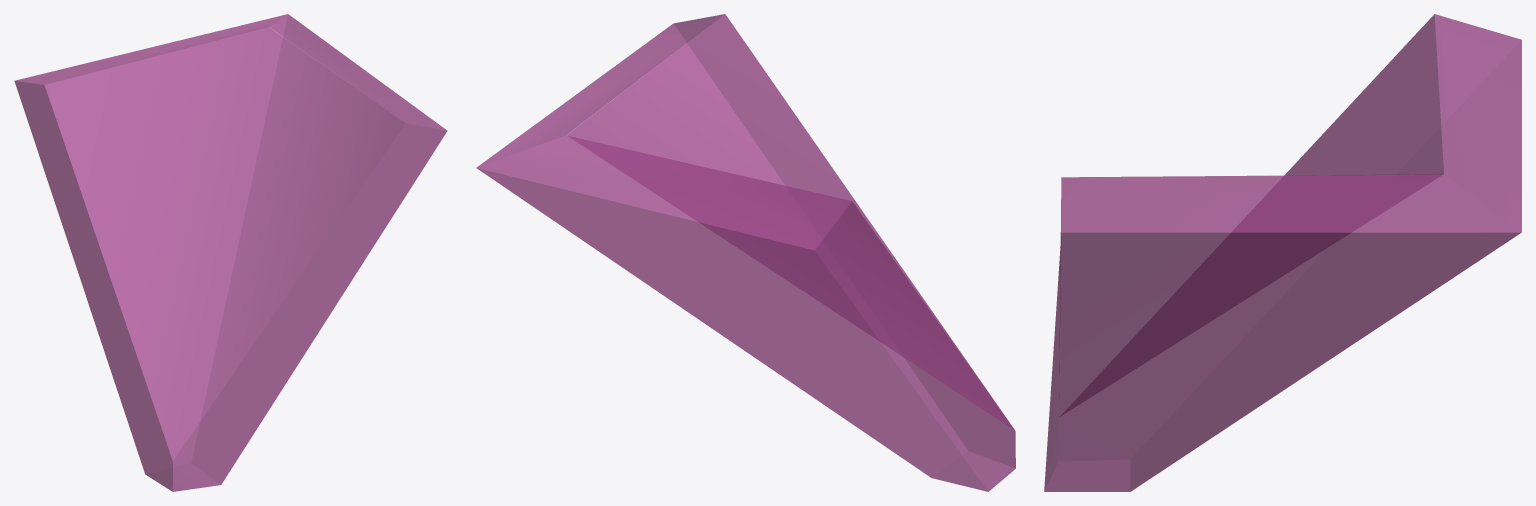
Rendered from SM_Bld_Roof_01_Corner_02_Collision.fbx.
The picture shows the model from 3 angles, left to right: view 1: azimuth 30°, elevation 25°; view 2: azimuth 150°, elevation 25°; view 3: azimuth 270°, elevation 25°; orthographic projection. The views are drawn at different scales.
Visible parts, largest first — view 1: SM_Bld_Roof_01_Corner_02_Collision; view 2: SM_Bld_Roof_01_Corner_02_Collision; view 3: SM_Bld_Roof_01_Corner_02_Collision.
Boxes of the visible parts, x1,y1,x2,y2 form: SM_Bld_Roof_01_Corner_02_Collision: (14,14,447,491); SM_Bld_Roof_01_Corner_02_Collision: (476,14,1015,491); SM_Bld_Roof_01_Corner_02_Collision: (1044,14,1521,491).
Bounding box in the file's own units: 289 × 308 × 297.
